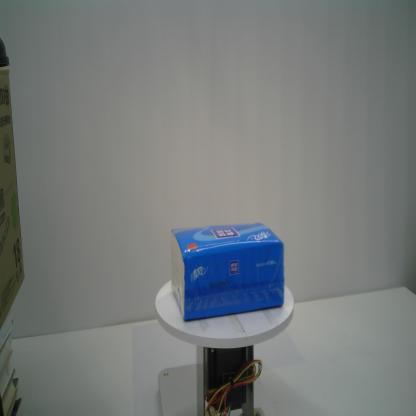Tissue: (172, 222, 285, 321)
